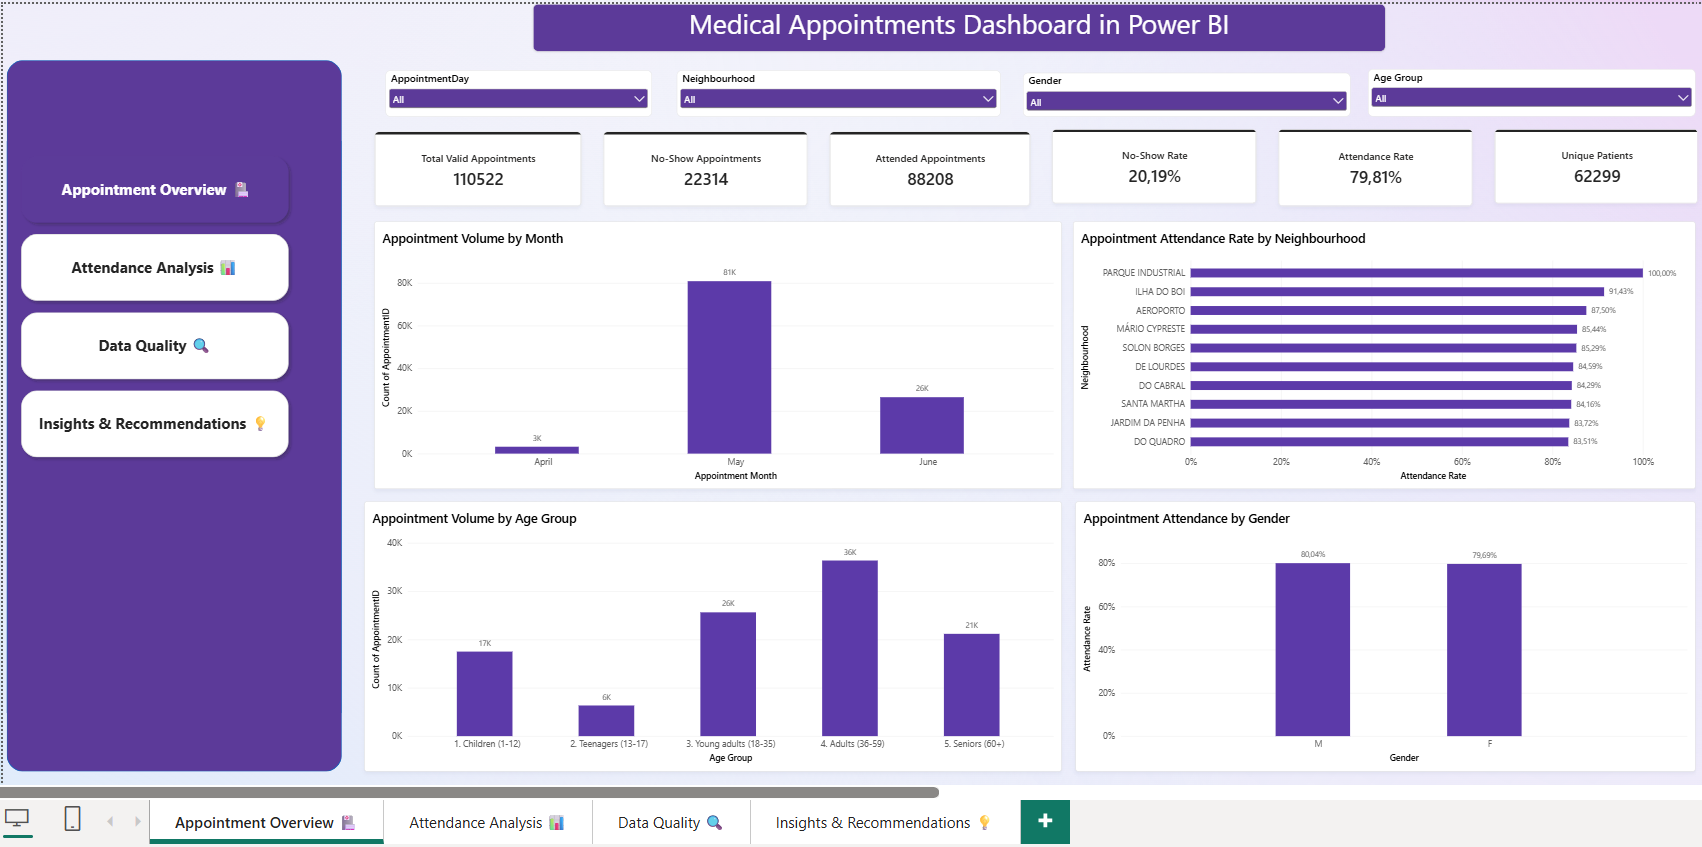

What the dashboard file says about the page in this screenshot:
{"tool":"powerbi","page":{"name":"Appointment Overview 🏥","canvas":[5000,5000],"ordinal":0},"visuals":[{"type":"shape","box":[6,90,536,1138],"z":0,"group":"g2"},{"type":"cardVisual","fields":{"Data":["medical_appointments cleaned_medical_appointments.Total Valid Appointments"]},"box":[594,204,332,120],"z":0},{"type":"cardVisual","fields":{"Data":["medical_appointments cleaned_medical_appointments.Missed Appointments"]},"box":[959.9,204,328,120],"z":1000},{"type":"cardVisual","fields":{"Data":["medical_appointments cleaned_medical_appointments.Attended Appointments"]},"box":[1321.8,204,322,120],"z":2000},{"type":"cardVisual","fields":{"Data":["medical_appointments cleaned_medical_appointments.No-Show Rate"]},"box":[1677.8,200,328,120],"z":3000},{"type":"cardVisual","fields":{"Data":["medical_appointments cleaned_medical_appointments.Attendance Rate"]},"box":[2039.7,200,312,124],"z":4000},{"type":"clusteredColumnChart","title":"Appointment Volume by Month","fields":{"Category":["medical_appointments cleaned_medical_appointments.Appointment Month"],"Y":["CountNonNull(medical_appointments cleaned_medical_appointments.AppointmentID)"]},"box":[594,348,1100,428],"z":5000},{"type":"clusteredBarChart","title":"Appointment Attendance Rate by Neighbourhood","fields":{"Category":["medical_appointments cleaned_medical_appointments.Neighbourhood"],"Y":["medical_appointments cleaned_medical_appointments.Attendance Rate"]},"box":[1712.8,348.8,996,428],"z":6000},{"type":"clusteredColumnChart","title":"Appointment Volume by Age Group","fields":{"Category":["medical_appointments cleaned_medical_appointments.Age Group"],"Y":["CountNonNull(medical_appointments cleaned_medical_appointments.AppointmentID)"]},"box":[578.8,796.8,1116,432],"z":7000},{"type":"clusteredColumnChart","title":"Appointment Attendance by Gender","fields":{"Category":["medical_appointments cleaned_medical_appointments.Gender"],"Y":["medical_appointments cleaned_medical_appointments.Attendance Rate"]},"box":[1716,796,992,432],"z":8000},{"type":"cardVisual","fields":{"Data":["medical_appointments cleaned_medical_appointments.Unique Patients"]},"box":[2385.6,200,328,120],"z":9000},{"type":"textbox","box":[1964,16,12,88],"z":10000},{"type":"textbox","box":[3696,121,328,150],"z":11000},{"type":"textbox","box":[4034,121,328,150],"z":12000},{"type":"slicer","fields":{"Values":["medical_appointments cleaned_medical_appointments.AppointmentDay"]},"box":[612,106,426,74],"z":13000},{"type":"slicer","fields":{"Values":["medical_appointments cleaned_medical_appointments.Neighbourhood"]},"box":[1078,106,518,74],"z":14000},{"type":"slicer","fields":{"Values":["medical_appointments cleaned_medical_appointments.Gender"]},"box":[1632,110,524,70],"z":15000},{"type":"slicer","fields":{"Values":["medical_appointments cleaned_medical_appointments.Age Group"]},"box":[2184,104,524,76],"z":16000},{"type":"textbox","box":[2708,0,6,180],"z":17000},{"type":"textbox","box":[848,0,1364,76],"z":18000},{"type":"group","id":"g1","title":"Group 1","box":[6,90,536,1138],"z":19000},{"type":"group","id":"g2","title":"Group 2","box":[6,90,536,1138],"z":20501,"group":"g1"},{"type":"pageNavigator","box":[21,234,446,500],"z":21001,"group":"g2"}]}

Visuals, with their boxes on the page's 5000x5000 design canvas (x1, y1, x2, y2). These are canvas units, not pixel positions in the 1702x847 screenshot, which may show the page scaled, cropped or inside an application window:
shape: 6:90:542:1228
cardVisual - medical_appointments cleaned_medical_appointments.Total Valid Appointments: 594:204:926:324
cardVisual - medical_appointments cleaned_medical_appointments.Missed Appointments: 960:204:1288:324
cardVisual - medical_appointments cleaned_medical_appointments.Attended Appointments: 1322:204:1644:324
cardVisual - medical_appointments cleaned_medical_appointments.No-Show Rate: 1678:200:2006:320
cardVisual - medical_appointments cleaned_medical_appointments.Attendance Rate: 2040:200:2352:324
"Appointment Volume by Month" clusteredColumnChart: 594:348:1694:776
"Appointment Attendance Rate by Neighbourhood" clusteredBarChart: 1713:349:2709:777
"Appointment Volume by Age Group" clusteredColumnChart: 579:797:1695:1229
"Appointment Attendance by Gender" clusteredColumnChart: 1716:796:2708:1228
cardVisual - medical_appointments cleaned_medical_appointments.Unique Patients: 2386:200:2714:320
textbox: 1964:16:1976:104
textbox: 3696:121:4024:271
textbox: 4034:121:4362:271
slicer - medical_appointments cleaned_medical_appointments.AppointmentDay: 612:106:1038:180
slicer - medical_appointments cleaned_medical_appointments.Neighbourhood: 1078:106:1596:180
slicer - medical_appointments cleaned_medical_appointments.Gender: 1632:110:2156:180
slicer - medical_appointments cleaned_medical_appointments.Age Group: 2184:104:2708:180
textbox: 2708:0:2714:180
textbox: 848:0:2212:76
"Group 1" group: 6:90:542:1228
"Group 2" group: 6:90:542:1228
pageNavigator: 21:234:467:734
